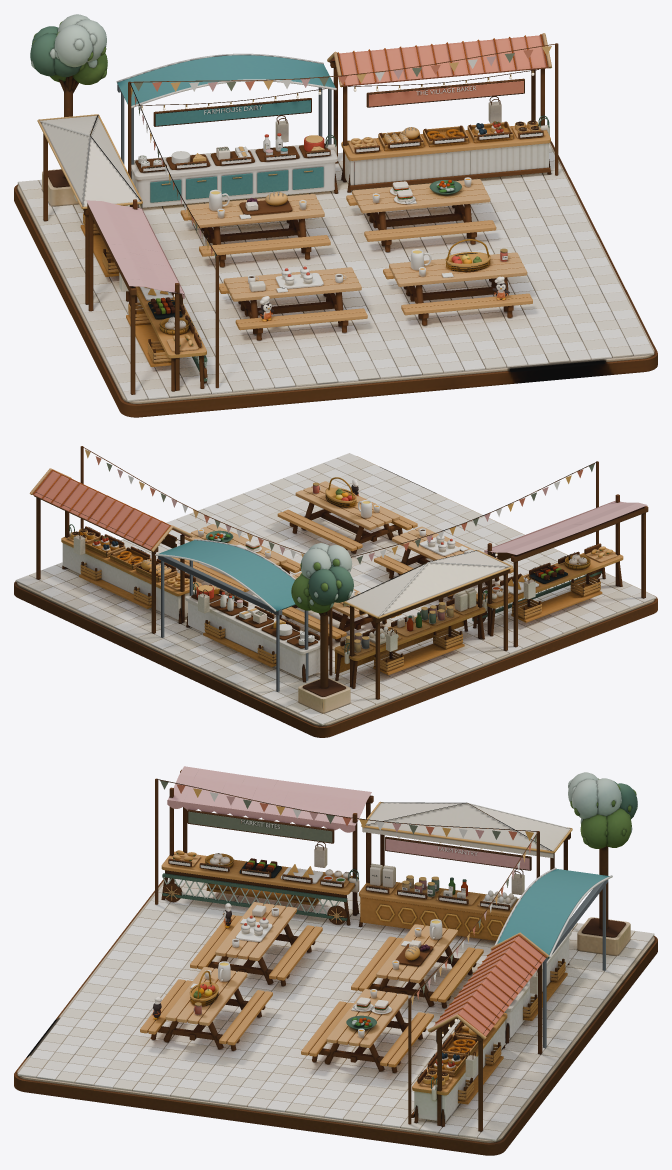
The model's file is farmers-market.glb.
3 renders of one model, top to bottom at view 1: azimuth 30°, elevation 25°; view 2: azimuth 150°, elevation 25°; view 3: azimuth 270°, elevation 25°, orthographic. The views are drawn at different scales.
Visible parts, largest first — view 1: Baked farmers-market architecture, Baked farmers-market details, Live glass and reflective metal; view 2: Baked farmers-market architecture, Baked farmers-market details, Live glass and reflective metal; view 3: Baked farmers-market architecture, Baked farmers-market details, Live glass and reflective metal.
Part boxes in pixels (bbox=[...]): Baked farmers-market architecture: bbox=[14, 14, 657, 417]; Baked farmers-market details: bbox=[17, 21, 654, 401]; Live glass and reflective metal: bbox=[117, 70, 533, 293]; Baked farmers-market architecture: bbox=[14, 446, 657, 737]; Baked farmers-market details: bbox=[15, 449, 656, 725]; Live glass and reflective metal: bbox=[158, 482, 496, 691]; Baked farmers-market architecture: bbox=[14, 766, 657, 1155]; Baked farmers-market details: bbox=[17, 778, 654, 1141]; Live glass and reflective metal: bbox=[169, 842, 608, 1048].
Bounding box in the file's own units: 21.07 × 6.59 × 20.9.
Materials: 6 (2 with a texture image).
